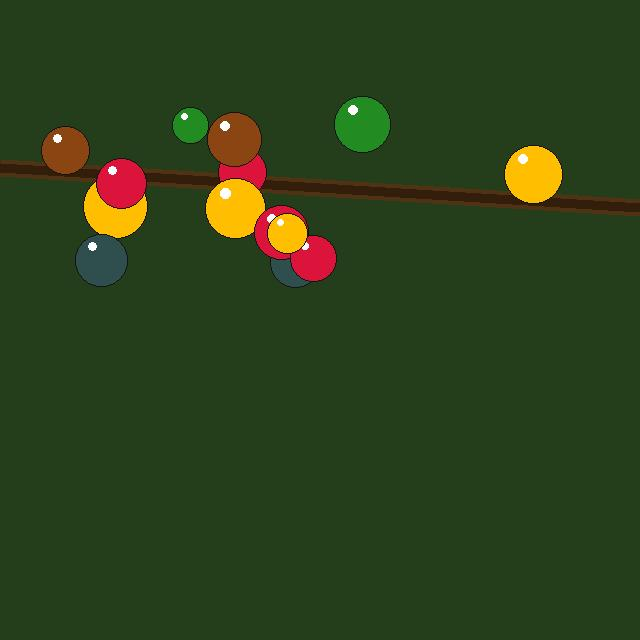Dry_Damaged: (75, 234, 127, 286), (270, 237, 320, 287)
Overripe: (207, 112, 261, 166), (41, 126, 89, 174)
Ripe: (254, 205, 308, 259), (96, 158, 146, 208), (218, 148, 266, 196), (290, 235, 336, 281)
Ripening: (83, 174, 147, 238), (205, 178, 265, 238), (504, 145, 562, 203), (506, 154, 550, 198), (267, 213, 307, 253)
Unripe: (334, 96, 390, 152), (172, 107, 208, 143)
